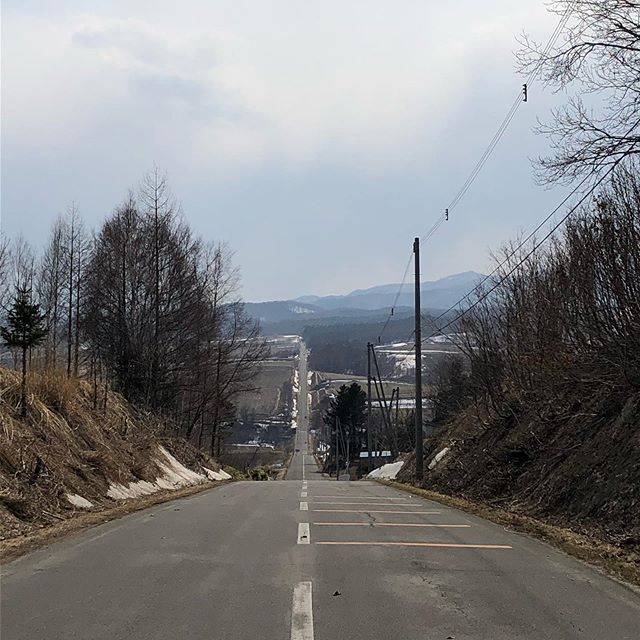sky: (23, 1, 609, 251)
street: (2, 468, 606, 640)
vegetation: (1, 187, 246, 502), (404, 200, 640, 502)
